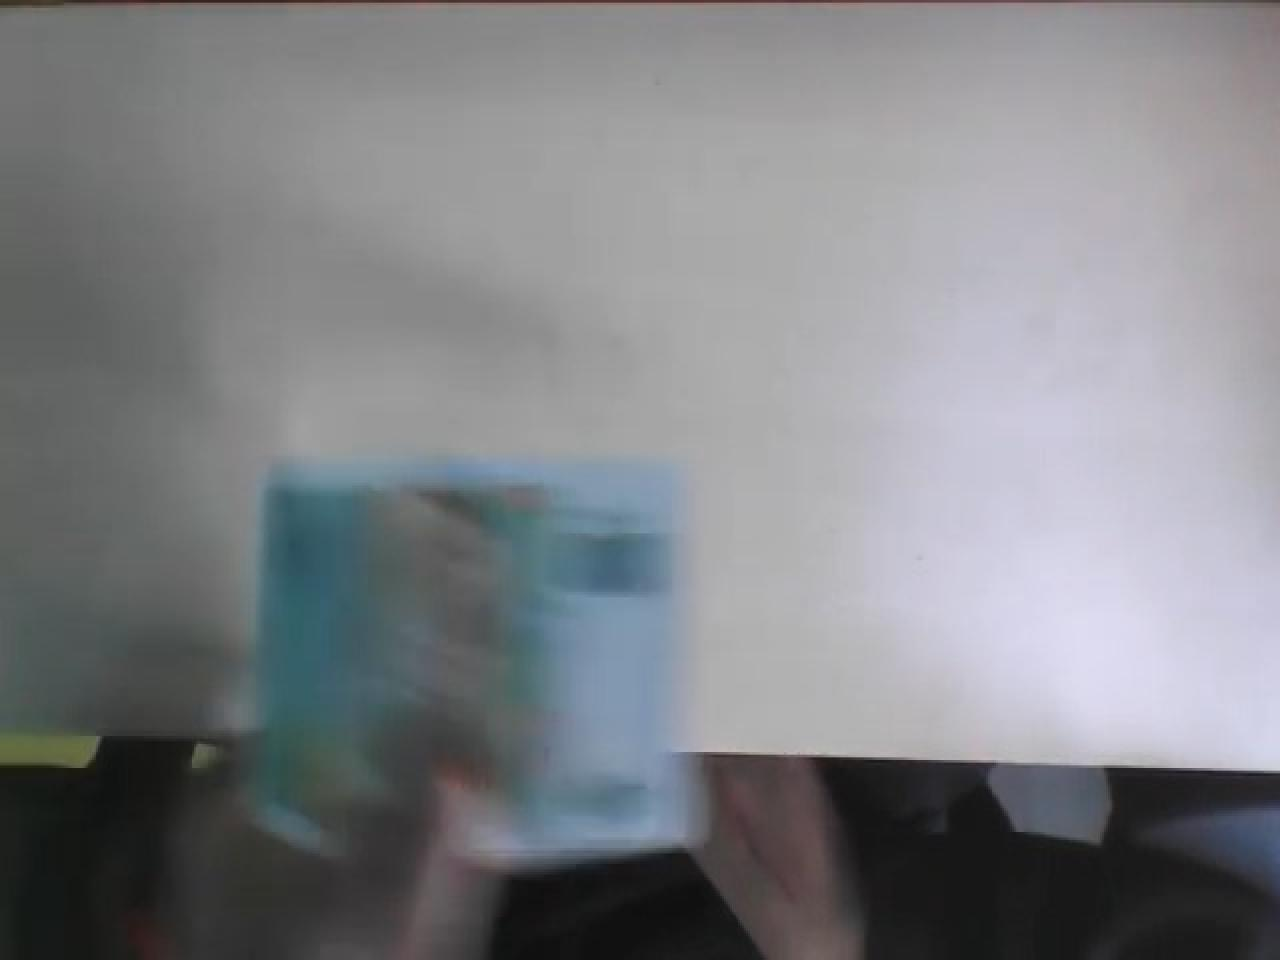100leva: (240, 456, 708, 869)
